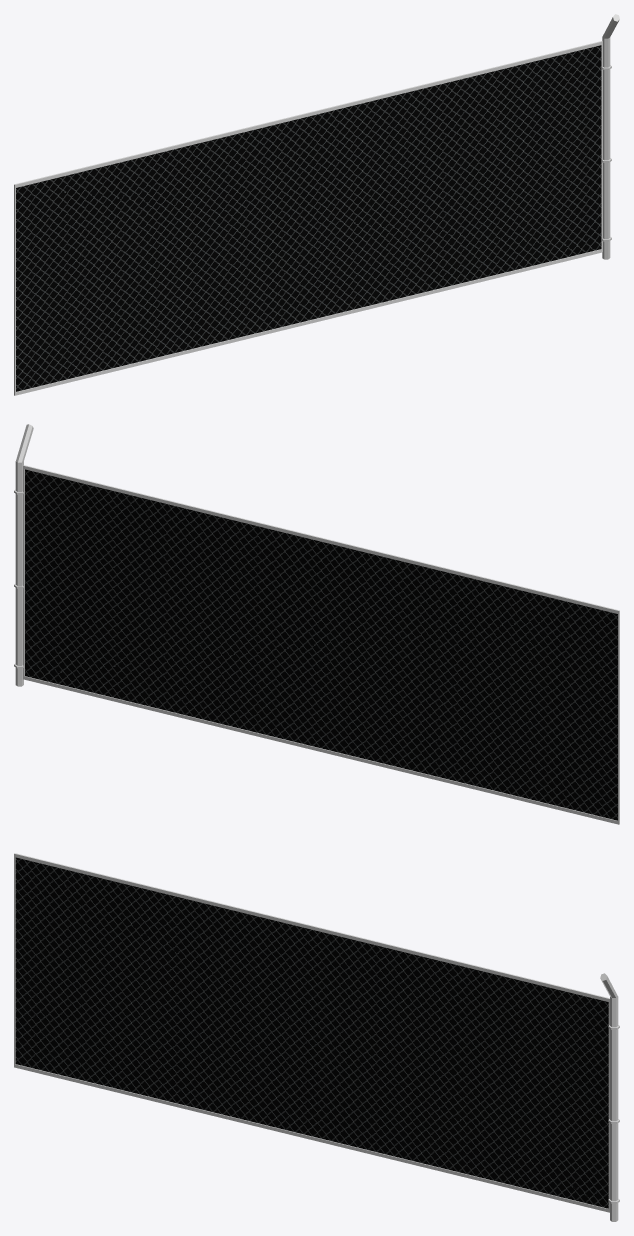
File: cerca alpha.fbx
The picture shows the model from 3 angles, top to bottom: view 1: azimuth 30°, elevation 25°; view 2: azimuth 150°, elevation 25°; view 3: azimuth 330°, elevation 25°; orthographic projection.
Visible parts, largest first — view 1: Plane.002, Cylinder.015; view 2: Plane.002, Cylinder.015; view 3: Plane.002, Cylinder.015.
Boxes of the visible parts, left/top/right/bottom form: Plane.002: left=16, top=45, right=601, bottom=391; Cylinder.015: left=14, top=14, right=619, bottom=395; Plane.002: left=25, top=469, right=617, bottom=820; Cylinder.015: left=14, top=424, right=619, bottom=824; Plane.002: left=15, top=857, right=608, bottom=1208; Cylinder.015: left=14, top=853, right=619, bottom=1221.
Bounding box in the file's own units: 767 × 308 × 31.57.
